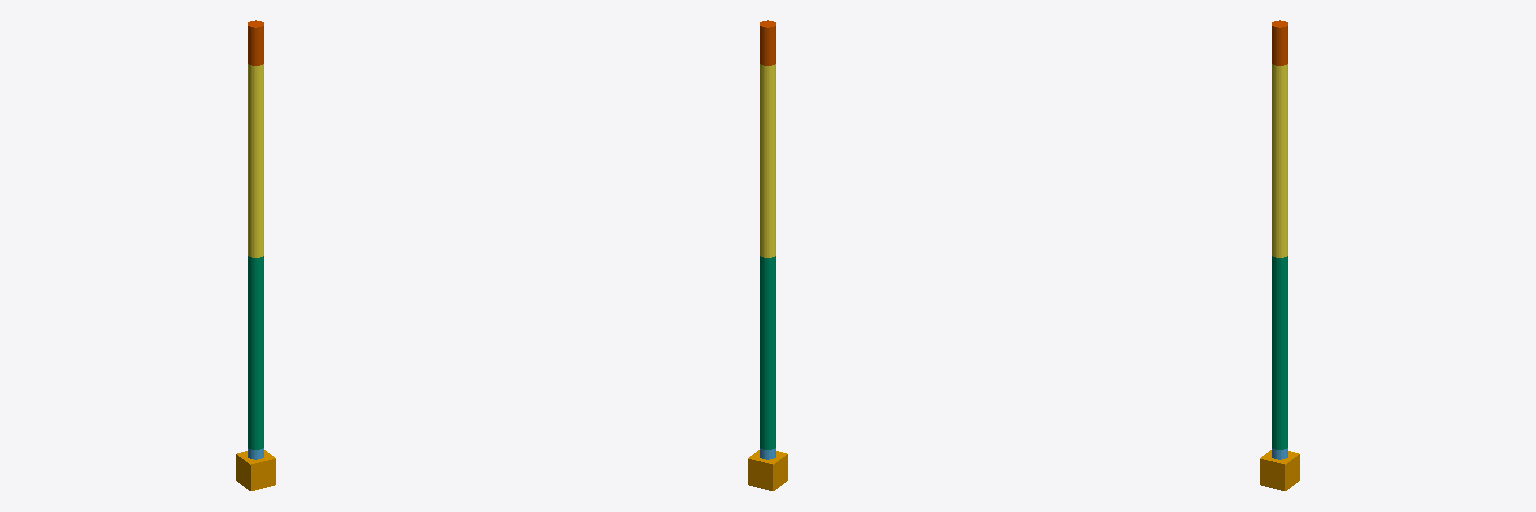
The robot description file, URDF, robot "optimized_complex_robot":
<?xml version="1.0"?>
<robot name="optimized_complex_robot">

    <!-- Base Link -->
    <link name="base">
        <visual>
            <geometry>
                <box size="0.07 0.07 0.07"/>  <!-- Base size 70mm x 70mm x 70mm -->
            </geometry>
        </visual>
    </link>

    <!-- Link 1 (30mm) -->
    <link name="link1">
        <visual>
            <geometry>
                <cylinder radius="0.02" length="0.03"/> <!-- Length is 30mm -->
            </geometry>
            <origin xyz="0 0 0.015" rpy="0 0 0"/>  <!-- Origin is centered along the length -->
        </visual>
    </link>

    <!-- Joint 1 - Allows 360 degree rotation around Z-axis -->
    <joint name="joint1" type="revolute">
        <parent link="base"/>
        <child link="link1"/>
        <origin xyz="0 0 0.03" rpy="0 0 0"/> <!-- Origin for rotation, placed 70mm above the base -->
        <axis xyz="0 0 1"/>
        <limit lower="-3.14159" upper="3.14159" effort="1000" velocity="1.0"/>
    </joint>

    <!-- Link 2 (500mm) -->
    <link name="link2">
        <visual>
            <geometry>
                <cylinder radius="0.02" length="0.5"/> <!-- Length is 500mm -->
            </geometry>
            <origin xyz="0 0 0.25" rpy="0 0 0"/>  <!-- Origin is centered along the length -->
        </visual>
    </link>

    <!-- Joint 2 - Allows rotation around Y-axis -->
    <joint name="joint2" type="revolute">
        <parent link="link1"/>
        <child link="link2"/>
        <origin xyz="0 0 0.03" rpy="0 0 0"/> <!-- Placed at the end of Link 1 -->
        <axis xyz="0 1 0"/>
        <limit lower="-1.5708" upper="1.5708" effort="1000" velocity="1.0"/>
    </joint>

    <!-- Link 3 (500mm) -->
    <link name="link3">
        <visual>
            <geometry>
                <cylinder radius="0.02" length="0.5"/> <!-- Length is 500mm -->
            </geometry>
            <origin xyz="0 0 0.25" rpy="0 0 0"/>  <!-- Origin is centered along the length -->
        </visual>
    </link>

    <!-- Joint 3 - Allows rotation around Y-axis -->
    <joint name="joint3" type="revolute">
        <parent link="link2"/>
        <child link="link3"/>
        <origin xyz="0 0 0.5" rpy="0 0 0"/> <!-- Placed at the end of Link 2 -->
        <axis xyz="0 1 0"/>
        <limit lower="-1.5708" upper="1.5708" effort="1000" velocity="1.0"/>
    </joint>

    <!-- Link 4 (0mm) -->
    <link name="link4">
        <visual>
            <geometry>
                <cylinder radius="0.02" length="0"/> <!-- No length specified -->
            </geometry>
            <origin xyz="0 0 0" rpy="0 0 0"/>  <!-- Positioned at the joint -->
        </visual>
    </link>

    <!-- Joint 4 - Allows rotation around Y-axis -->
    <joint name="joint4" type="revolute">
        <parent link="link3"/>
        <child link="link4"/>
        <origin xyz="0 0 0.5" rpy="0 0 0"/> <!-- Placed at the end of Link 3 -->
        <axis xyz="0 1 0"/>
        <limit lower="-1.5708" upper="1.5708" effort="1000" velocity="1.0"/>
    </joint>

    <!-- Link 5 (100mm) -->
    <link name="link5">
        <visual>
            <geometry>
                <cylinder radius="0.02" length="0.1"/> <!-- Length is 100mm -->
            </geometry>
            <origin xyz="0 0 0.05" rpy="0 0 0"/>  <!-- Origin is centered along the length -->
        </visual>
    </link>

    <!-- Joint 5 - Allows rotation around Y-axis -->
    <joint name="joint5" type="revolute">
        <parent link="link4"/>
        <child link="link5"/>
        <origin xyz="0 0 0" rpy="0 0 0"/> <!-- Placed directly at the end of Link 4 -->
        <axis xyz="0 0 1"/>
        <limit lower="-1.5708" upper="1.5708" effort="1000" velocity="1.0"/>
    </joint>

</robot>

--- What the picture shows (computed from the rendered views, not written in the file) ---
3 views of the same robot in one strip: view 1: azimuth 30°, elevation 25°; view 2: azimuth 150°, elevation 25°; view 3: azimuth 330°, elevation 25° (orthographic).
Robot: optimized_complex_robot — 6 links, 5 joints (5 revolute); root link base; default pose: every joint at zero.
Links seen in each view (by area): view 1: link2, link3, base, link5; view 2: link2, link3, base, link5; view 3: link2, link3, base, link5.
Boxes of the visible links, box(x1,y1,x2,y2) form: link2: box(248, 256, 263, 449); link3: box(248, 64, 263, 257); base: box(236, 450, 275, 490); link5: box(248, 20, 263, 65); link2: box(760, 256, 775, 449); link3: box(760, 64, 775, 257); base: box(748, 450, 787, 490); link5: box(760, 20, 775, 65); link2: box(1272, 256, 1287, 449); link3: box(1272, 64, 1287, 257); base: box(1260, 450, 1299, 490); link5: box(1272, 20, 1287, 65).
Size in the robot's own frame: 0.07 by 0.07 by 1.2 metres.
Geometry: primitives only (box / cylinder / sphere), no mesh files.
